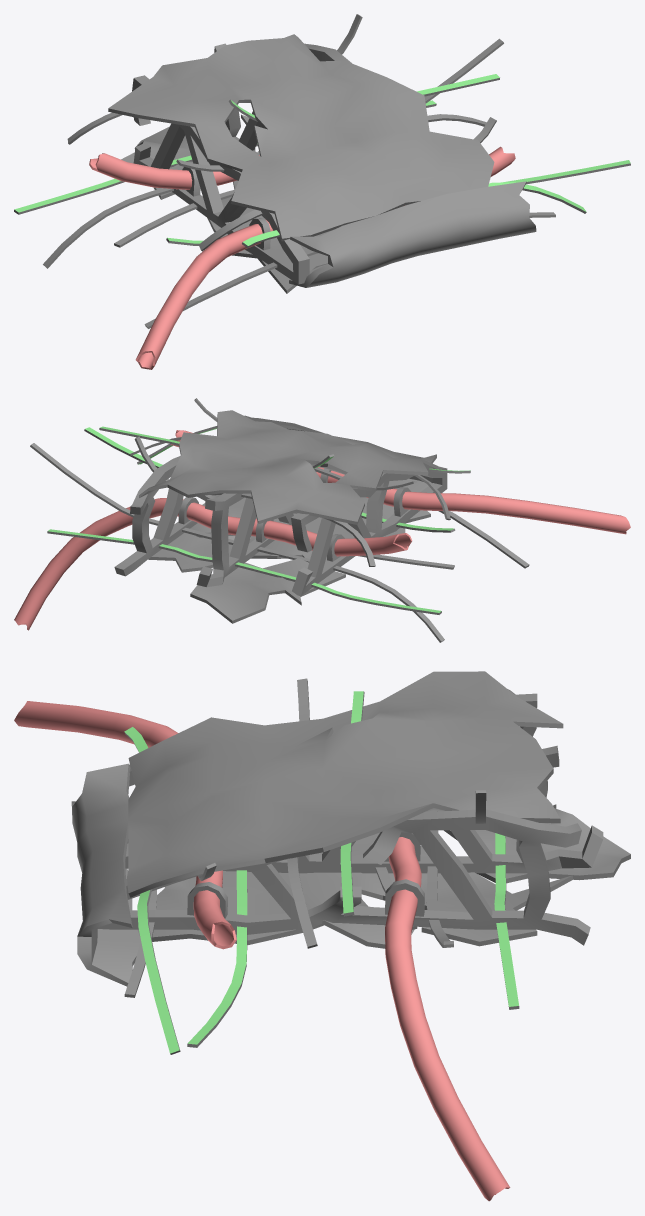
The model's file is SM_CruiserWreck_07.gltf.
The picture shows the model from 3 angles, top to bottom: view 1: azimuth 30°, elevation 25°; view 2: azimuth 150°, elevation 25°; view 3: azimuth 270°, elevation 25°; orthographic projection. The views are drawn at different scales.
Parts seen in each view (by area): view 1: SM_CruiserWreck_07; view 2: SM_CruiserWreck_07; view 3: SM_CruiserWreck_07.
Boxes of the visible parts, x1,y1,x2,y2 form: SM_CruiserWreck_07: (14, 14, 630, 369); SM_CruiserWreck_07: (14, 398, 630, 642); SM_CruiserWreck_07: (14, 671, 630, 1201).
Bounding box in the file's own units: 11.97 × 5 × 8.54.
